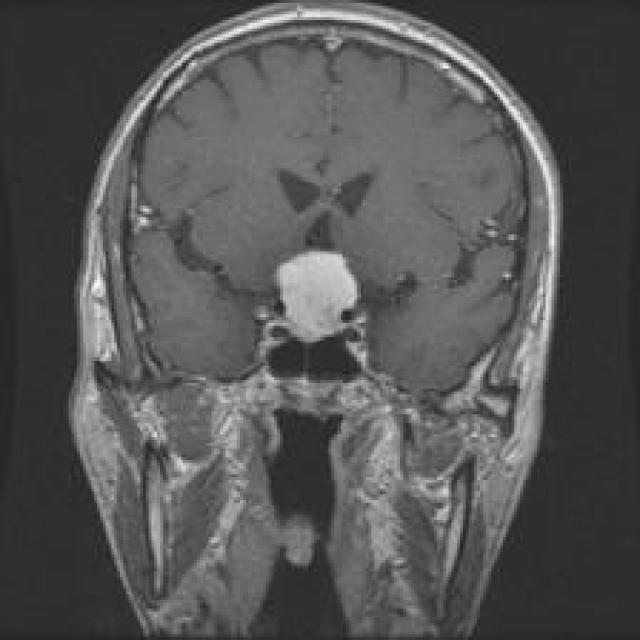meningioma_tumor: (262, 240, 370, 359)
